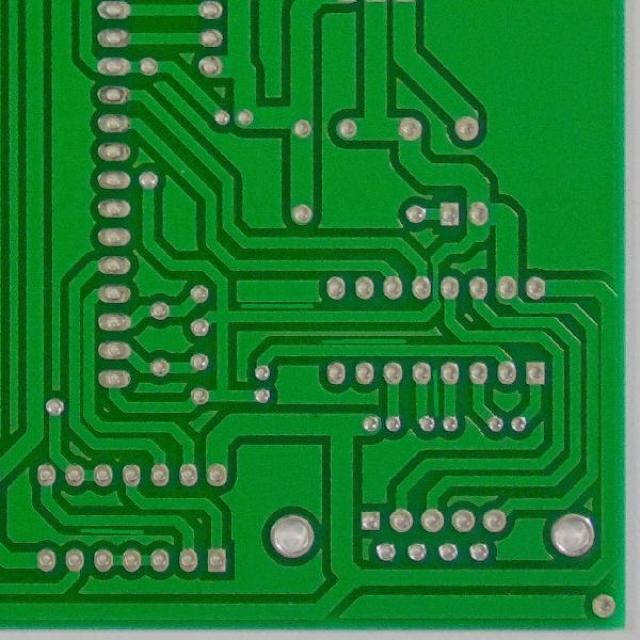spurious_copper: (315, 334, 415, 353), (76, 522, 154, 543), (234, 298, 316, 314), (429, 363, 448, 420)
